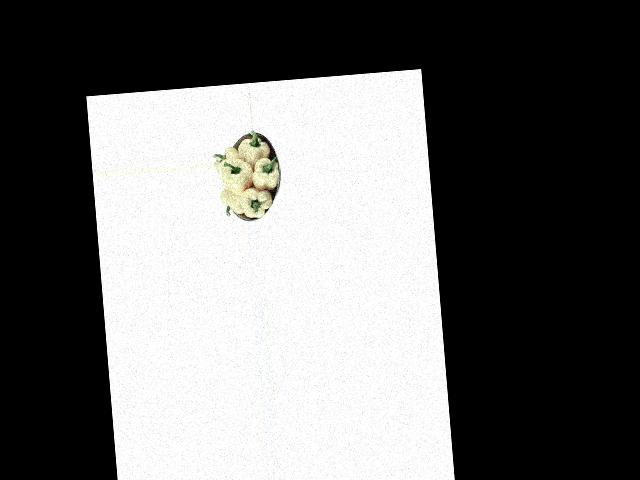bell_pepper: (212, 143, 242, 174)
